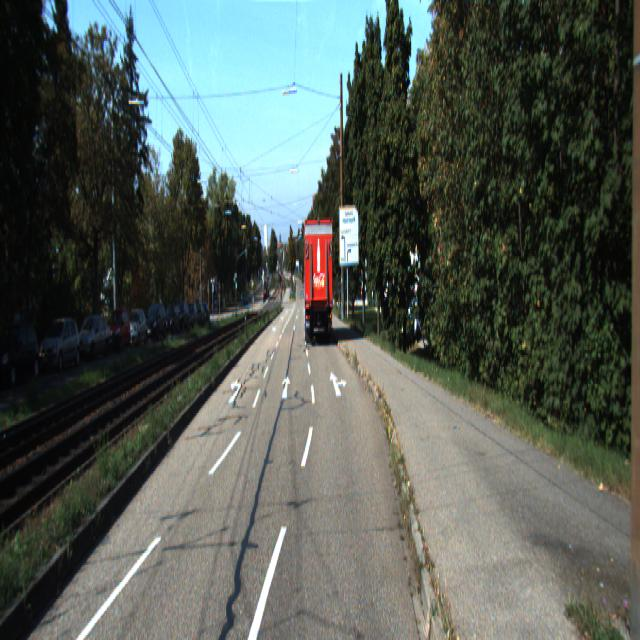Car: (302, 219, 334, 349), (0, 318, 41, 389), (39, 318, 82, 375), (73, 316, 111, 364), (106, 306, 132, 352), (125, 311, 147, 349)
